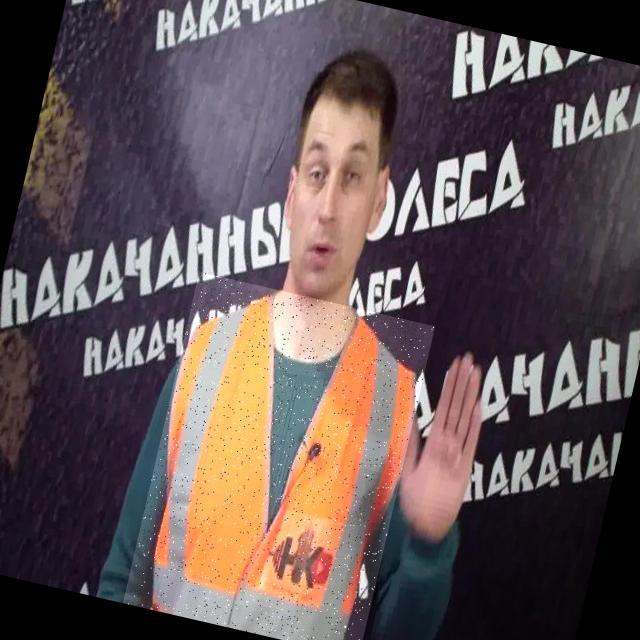Person: (83, 19, 520, 640)
Safety Vest: (122, 271, 434, 640)
bare-arms: (395, 349, 508, 554)
no-helmet: (298, 43, 413, 113)
